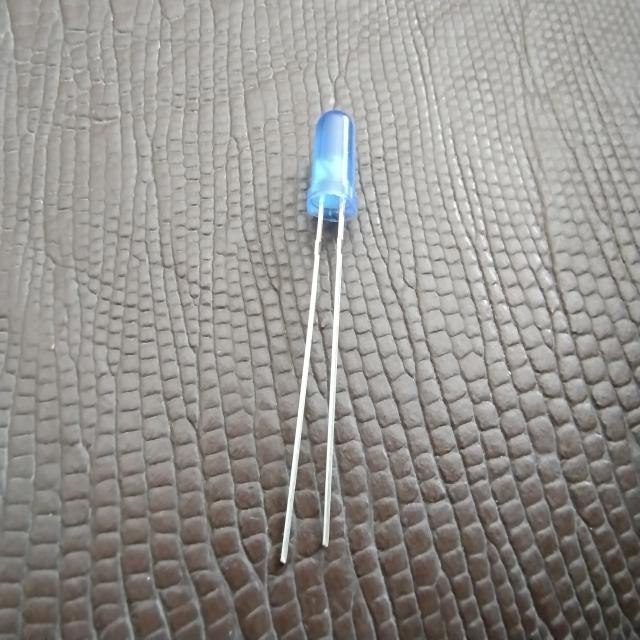blue_led: (305, 108, 359, 223)
